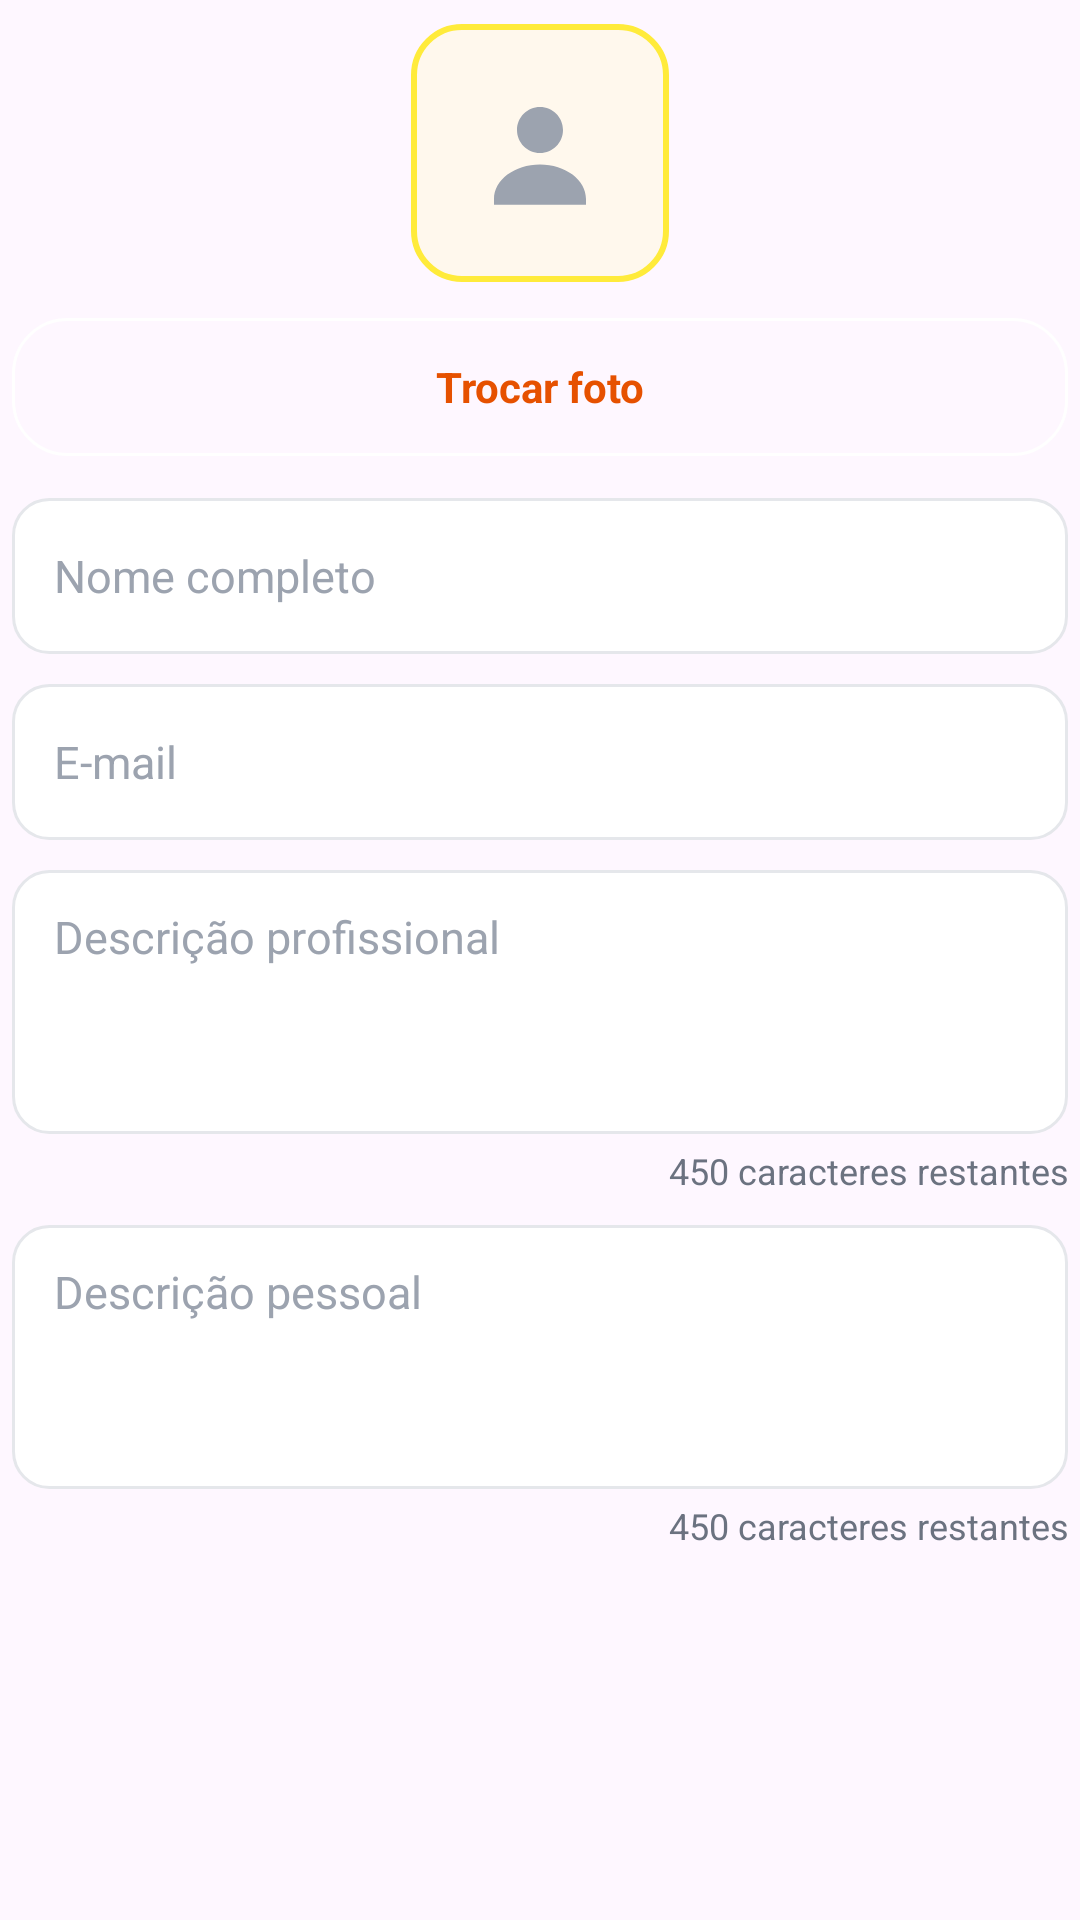

Icons on this 1080w x 1920h Android screen, each with its box as (x1, y1, x2, y2):
Foto do usuário: (411, 24, 669, 282)
